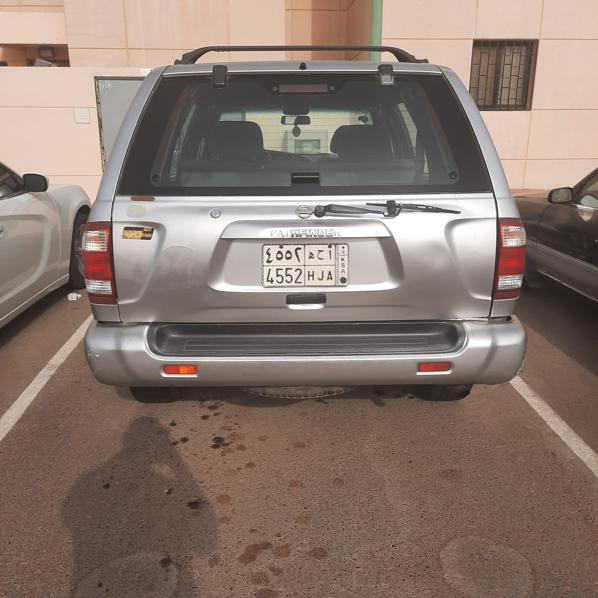numberplate: (263, 243, 348, 286)
